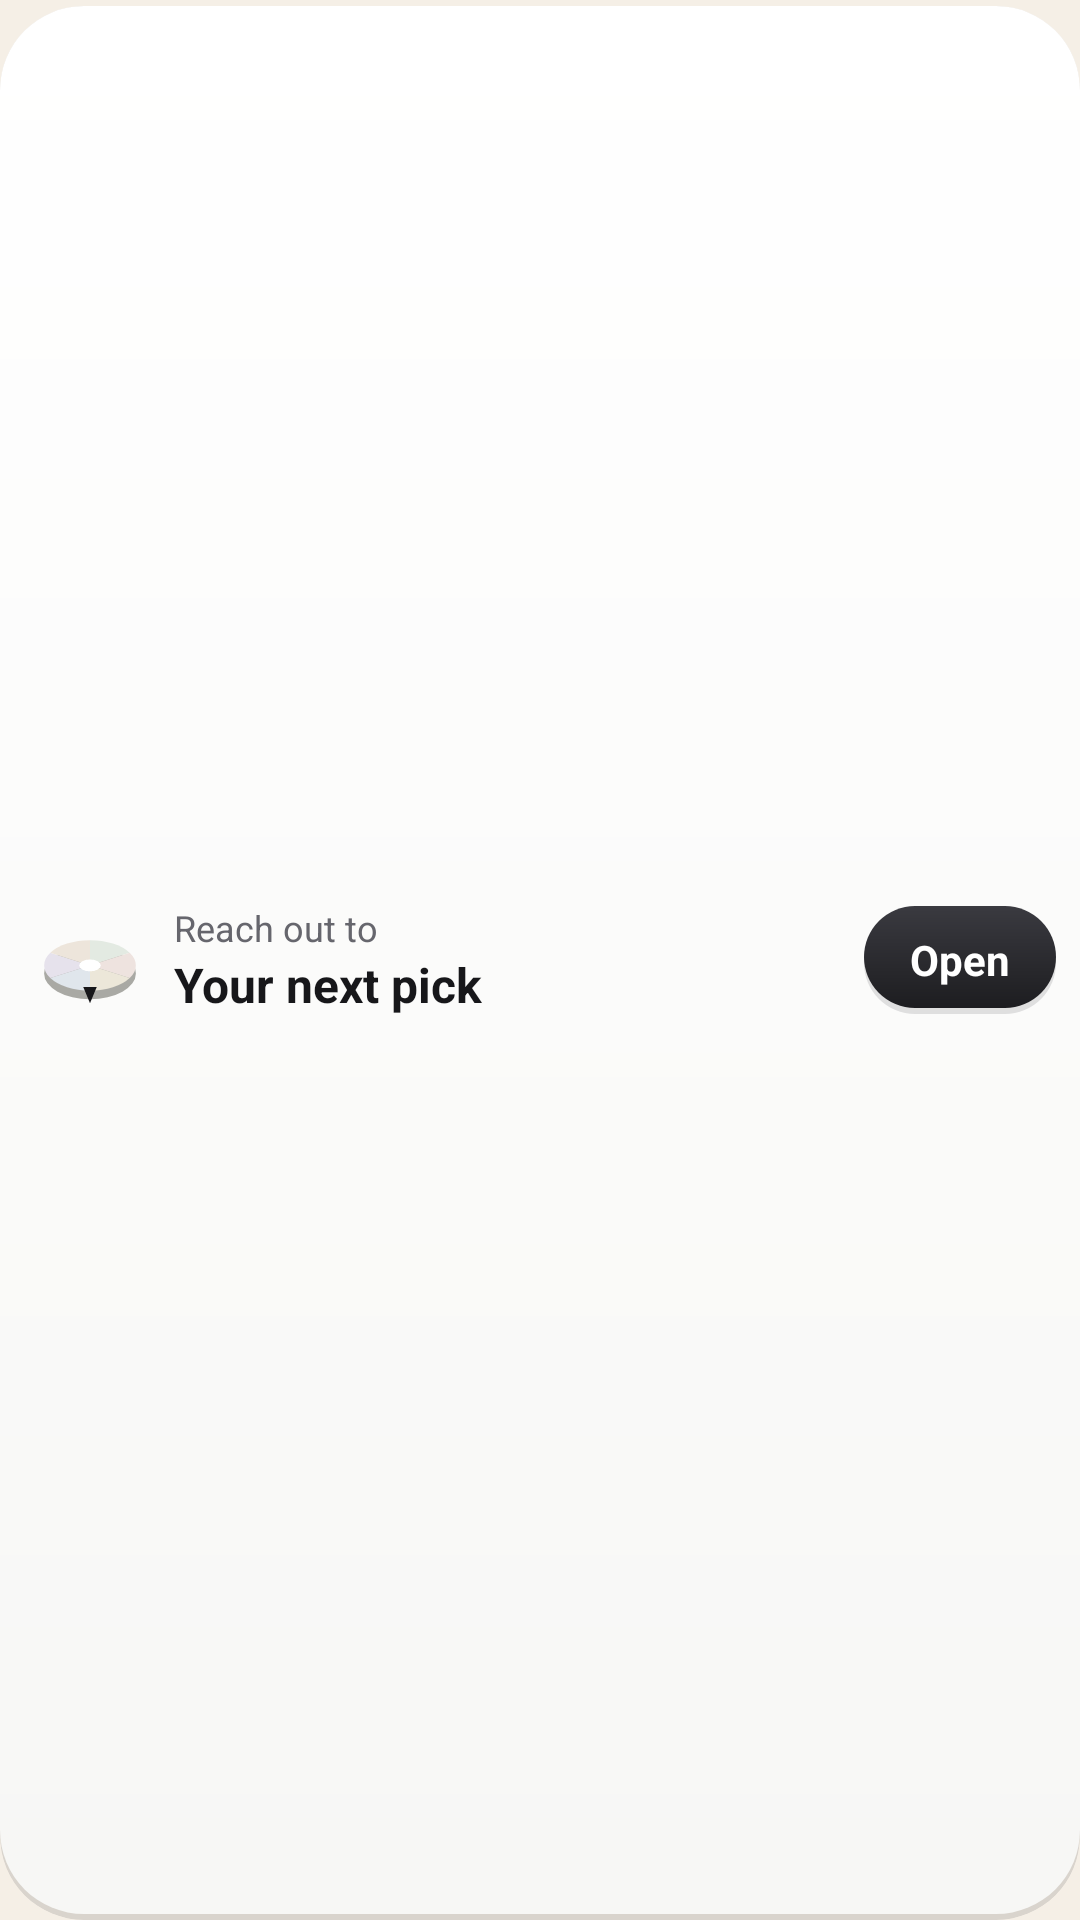

Locate icon controls on the screen. Image size 1080px x 1920px, boxes as [left=x1, top=y1, right=x2, bottom=y2].
widget tilted: [left=44, top=941, right=136, bottom=1003]
